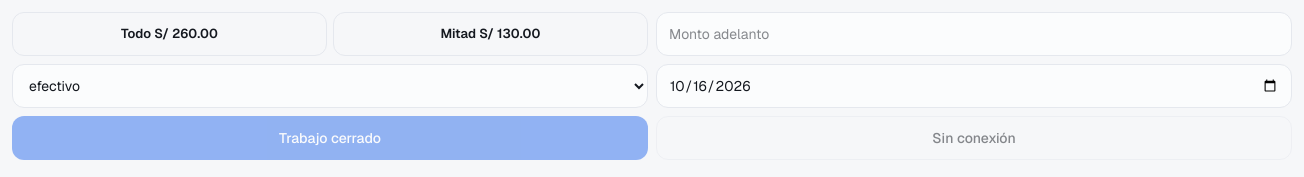
Test case: AbonoForm — cerrar cobrando › «Trabajo cerrado» envía el formulario marcando que hay que cerrar
Check: the button "Trabajo cerrado" holds "1", box left=12, top=116, right=648, bottom=160
What coordinates should you click on to do the following:
click the button "Todo S/ 260.00"
I would click on:
 (170, 34)
Its box is left=12, top=12, right=327, bottom=56.
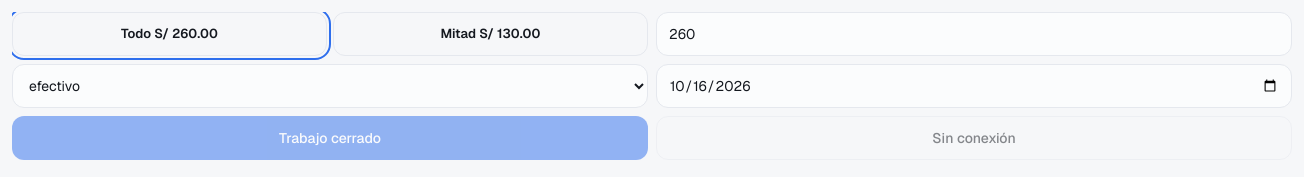
Check: the number field named "monto" holds "260", box left=656, top=12, right=1292, bottom=56
